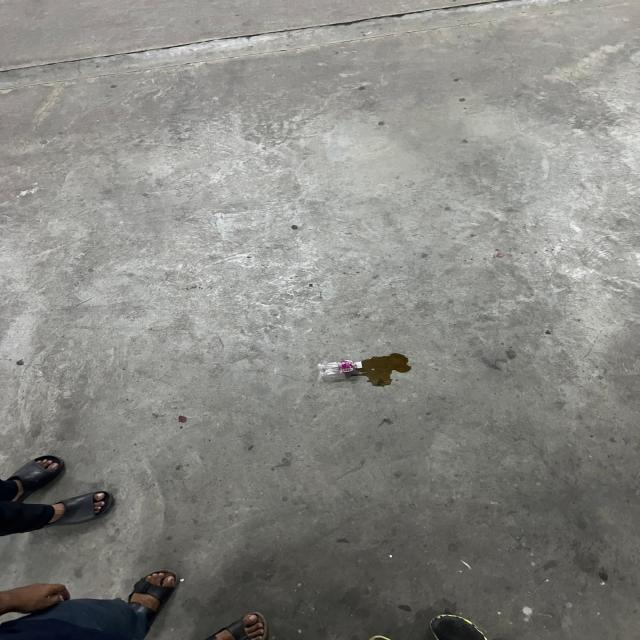bottle: (318, 362, 362, 376)
spill: (359, 357, 414, 386)
